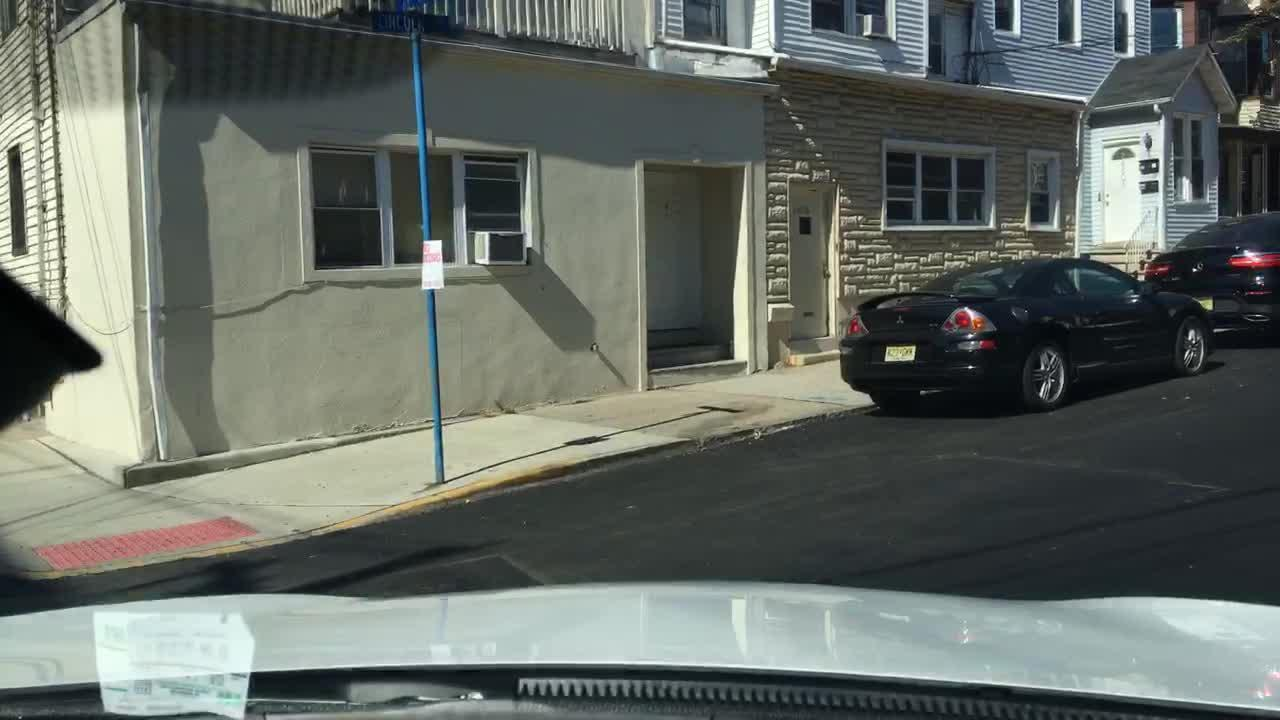Mitsubishi: (890, 308, 908, 330)
